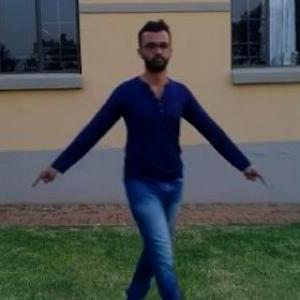land: (68, 33, 240, 288)
